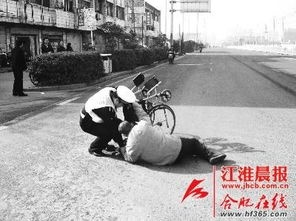falling: (115, 114, 232, 172)
